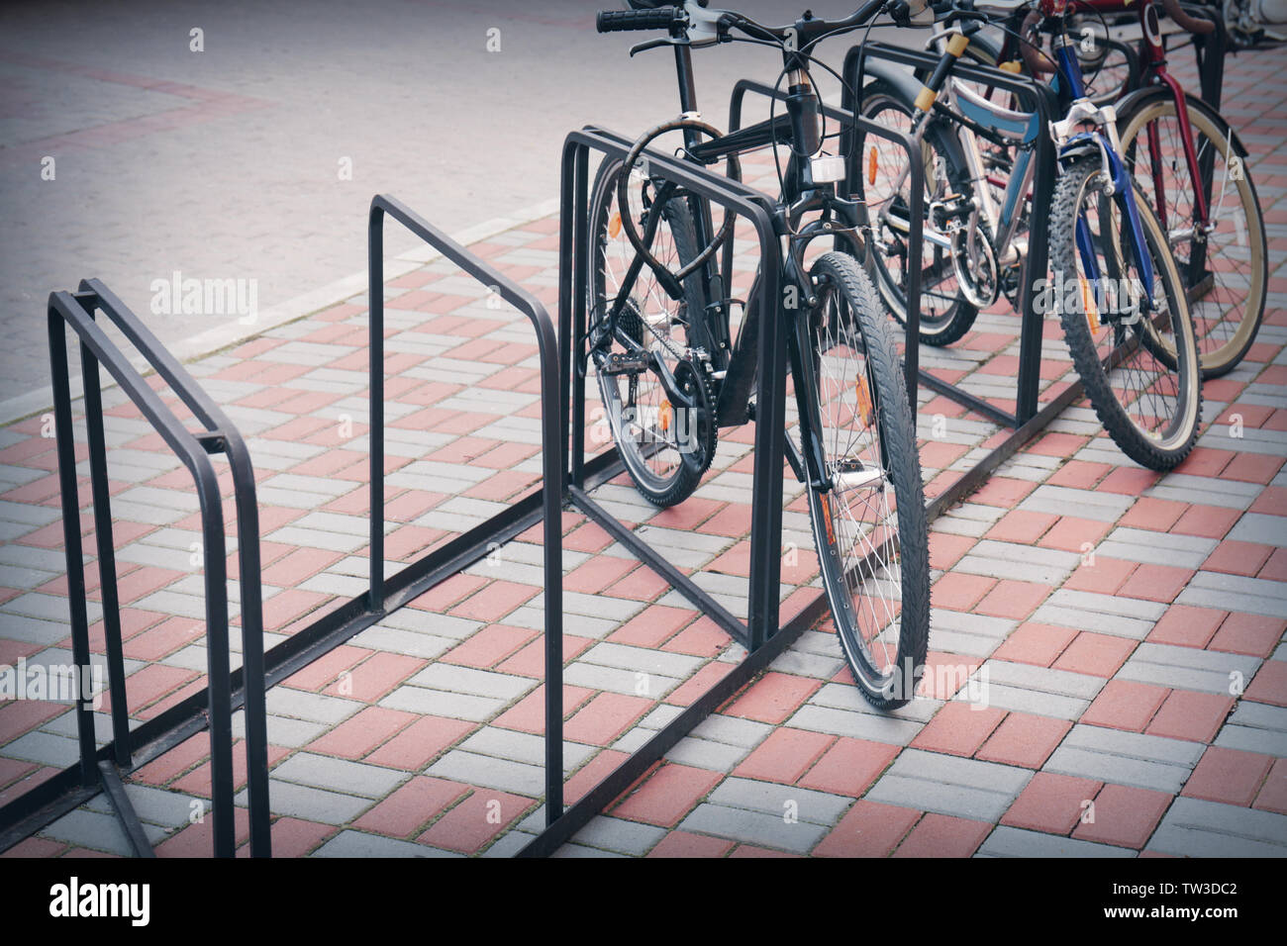Bicycle: (579, 17, 939, 723), (850, 17, 1207, 472)
